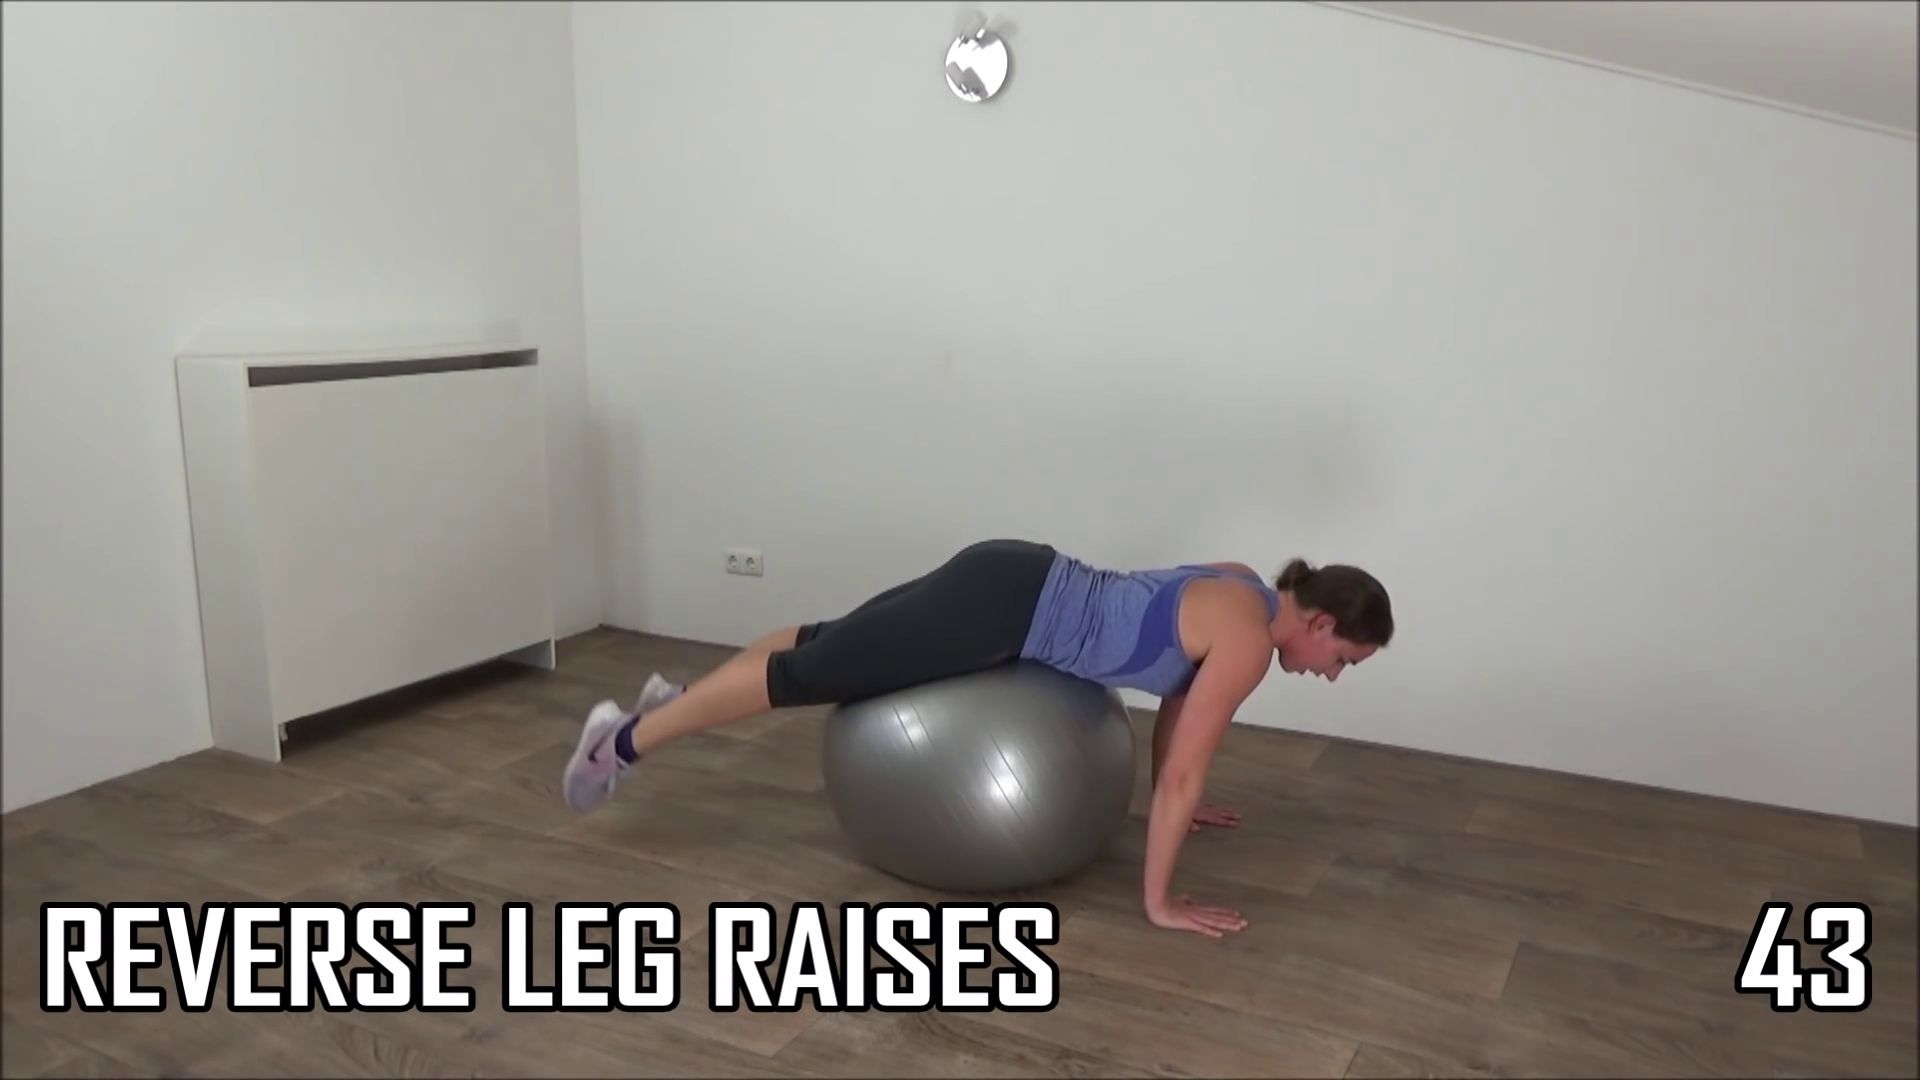yogaball: (796, 654, 1149, 903)
